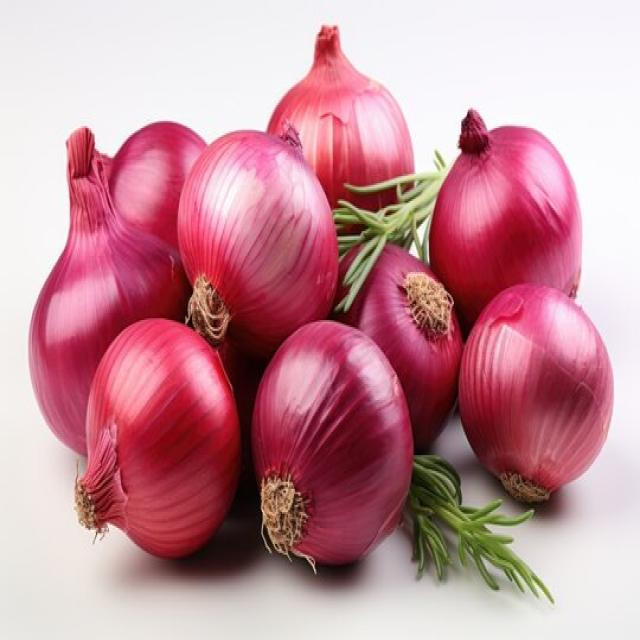Onion: (28, 119, 202, 457), (249, 318, 414, 572), (72, 315, 242, 558), (175, 121, 339, 359), (457, 281, 614, 503), (427, 107, 582, 330), (265, 22, 415, 236), (332, 238, 463, 452), (107, 119, 207, 253)
